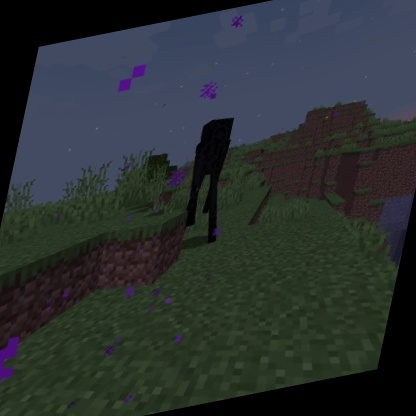enderman: (171, 111, 246, 253)
